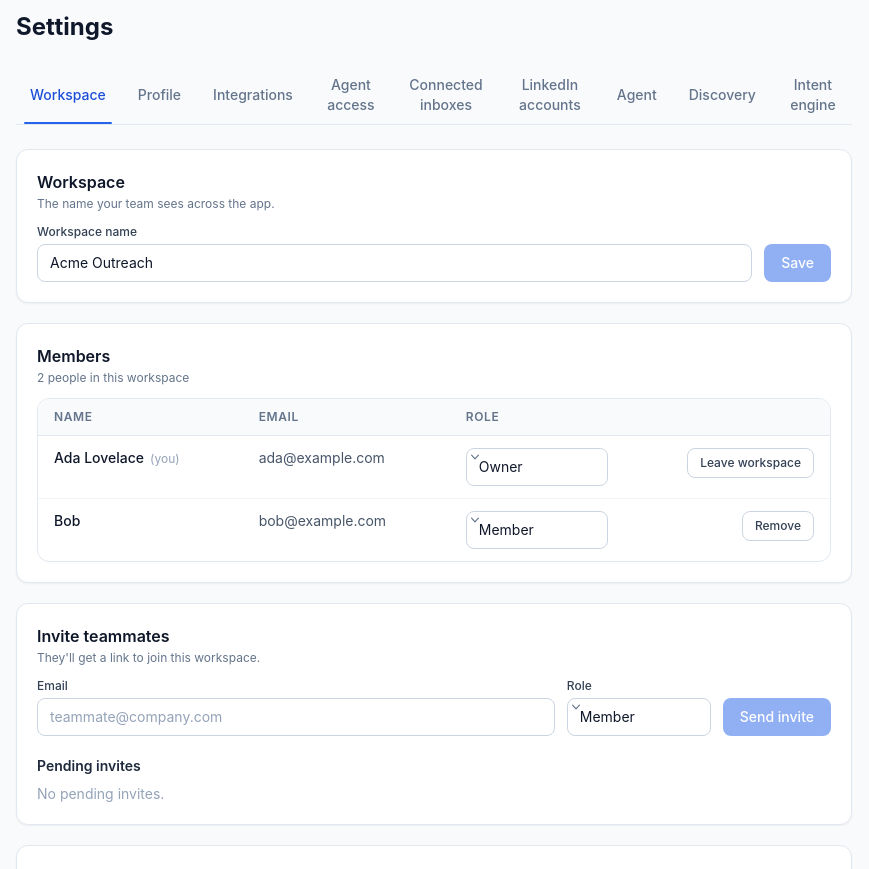
Test: Settings — Workspace tab › shows server detail inline when a role change is rejected
Select "Admin" in the dropdown with test id "member-role-user-2": (537, 530) top-left (466, 511), bottom-right (608, 549)
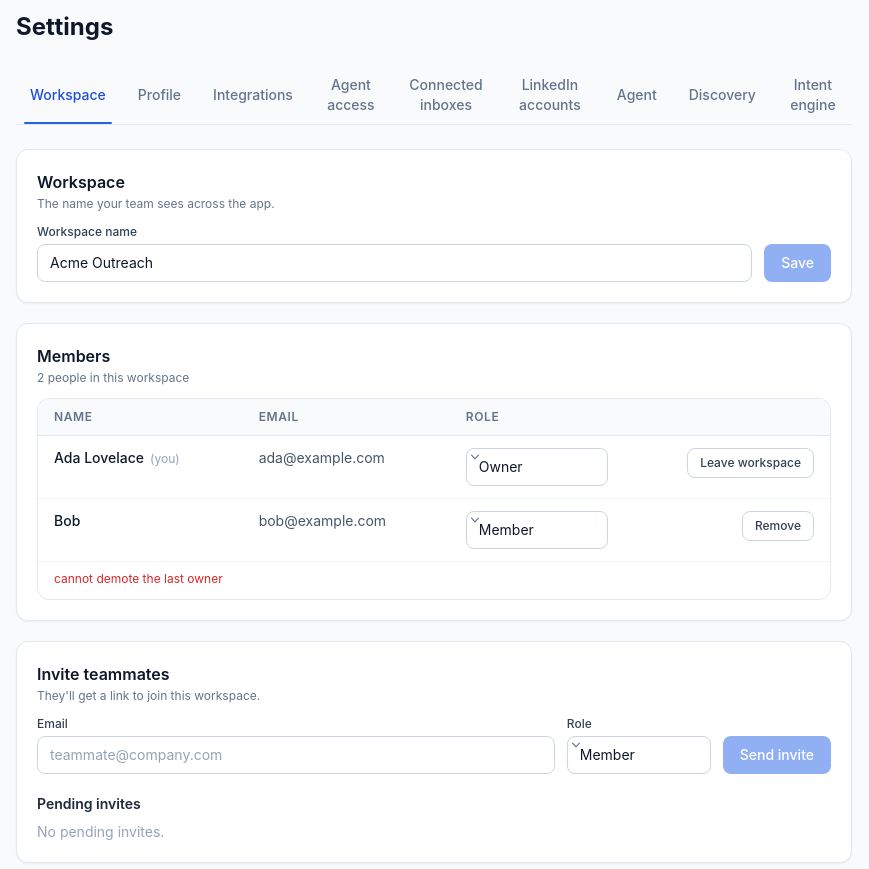
Check: the message with test id "member-error-user-2" reads "cannot demote the last owner", box top-left (54, 571), bottom-right (223, 586)
